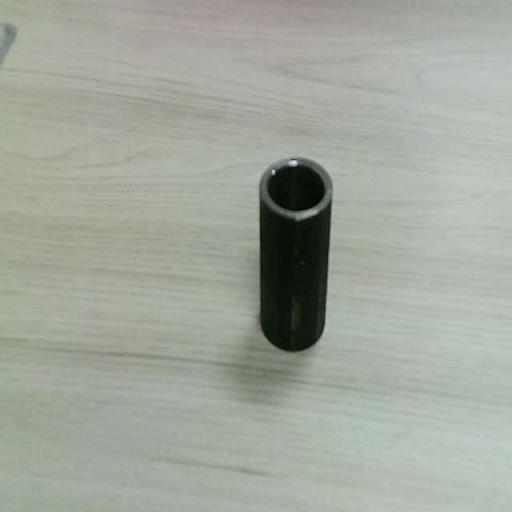peca: (260, 158, 333, 350)
